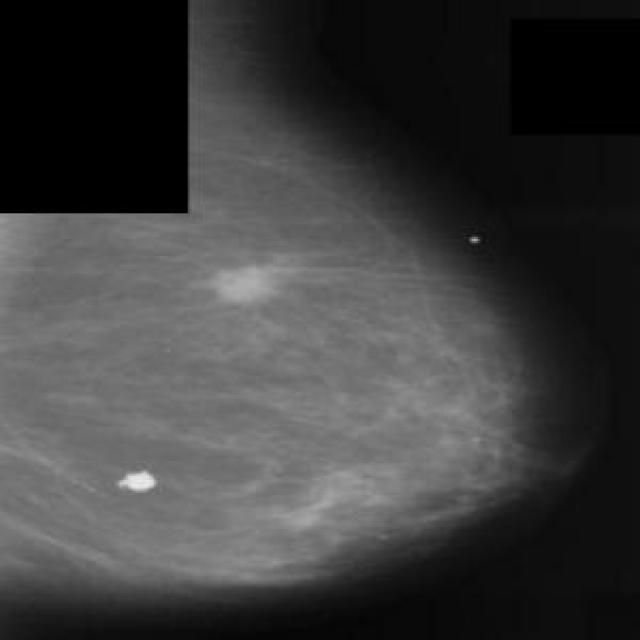tumor: (202, 242, 316, 321), (109, 456, 178, 520)
